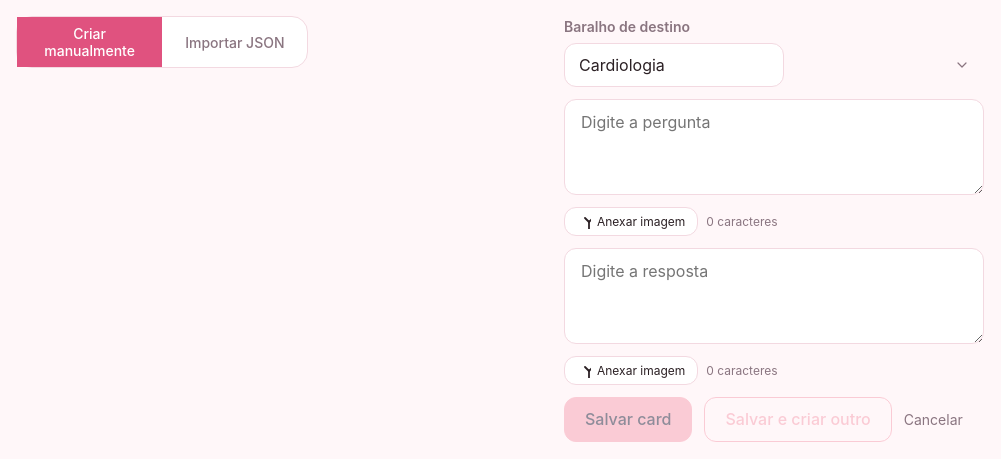
Test: NewCard › exibe contador de caracteres na pergunta e resposta
This screenshot has width=1001, height=459.
Type "Oi" into the text box with placeholder "Digite a pergunta". click: (774, 147)
box: x1=564 y1=99 x2=984 y2=195
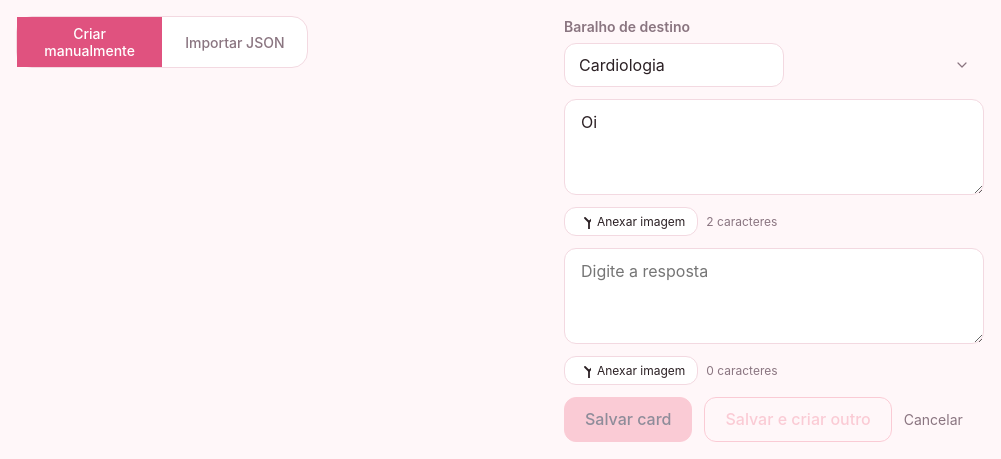
Check: the text "2 caracteres" is shown, box x1=706 y1=212 x2=777 y2=230
